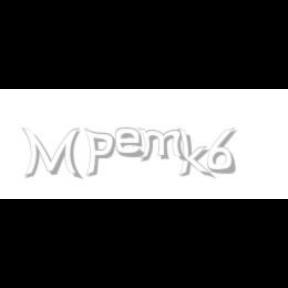6: (208, 128, 236, 176)
M: (22, 128, 80, 180)
P: (84, 128, 116, 178)
e: (115, 128, 148, 158)
k: (177, 128, 215, 180)
m: (137, 128, 189, 162)
